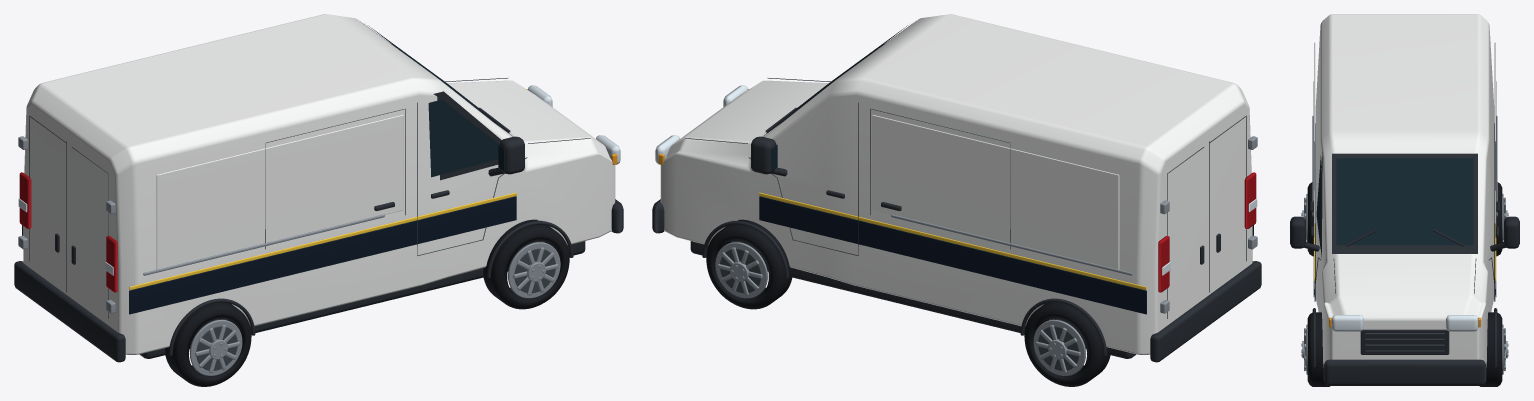
The model's file is furgone-imi.glb.
3 views of the same model, side by side, from view 1: azimuth 30°, elevation 25°; view 2: azimuth 150°, elevation 25°; view 3: azimuth 270°, elevation 25° (orthographic). The views are drawn at different scales.
Visible parts, largest first — view 1: Carrozzeria, Pannello_logo_sinistro, Fascia_blu_sinistro, Finestrino_sinistro, Paraurti_posteriore, Pneumatico_anteriore_sinistra, Pneumatico_posteriore_sinistra, Sottoscocca, Linea_gialla_sinistro, Guarnizione_vetro_sinistro, Binario_scorrevole_sinistro, Cerchio_anteriore_sinistra (+8 smaller); view 2: Carrozzeria, Pannello_logo_destro, Fascia_blu_destro, Paraurti_posteriore, Pneumatico_anteriore_destra, Pneumatico_posteriore_destra, Sottoscocca, Linea_gialla_destro, Binario_scorrevole_destro, Cerchio_anteriore_destra, Cerchio_posteriore_destra, Specchietto_destro (+6 smaller); view 3: Carrozzeria, Parabrezza, Paraurti_anteriore, Guarnizione_parabrezza, Griglia_anteriore, Pneumatico_anteriore_sinistra, Pneumatico_anteriore_destra, Gruppo_faro, Gruppo_faro.001, Specchietto_sinistro, Specchietto_destro, Pannello_logo_sinistro (+7 smaller).
Part boxes in pixels (<box>): Carrozzeria: <box>23,14,615,354</box>; Pannello_logo_sinistro: <box>156,115,403,269</box>; Fascia_blu_sinistro: <box>129,196,516,314</box>; Finestrino_sinistro: <box>428,99,499,177</box>; Paraurti_posteriore: <box>14,261,125,362</box>; Pneumatico_anteriore_sinistra: <box>483,219,569,309</box>; Pneumatico_posteriore_sinistra: <box>165,302,251,386</box>; Sottoscocca: <box>139,219,585,358</box>; Linea_gialla_sinistro: <box>129,192,516,290</box>; Guarnizione_vetro_sinistro: <box>433,91,501,180</box>; Binario_scorrevole_sinistro: <box>143,214,384,275</box>; Cerchio_anteriore_sinistra: <box>508,242,560,298</box>; Carrozzeria: <box>660,14,1252,354</box>; Pannello_logo_destro: <box>872,115,1119,269</box>; Fascia_blu_destro: <box>759,196,1146,314</box>; Paraurti_posteriore: <box>1150,261,1261,362</box>; Pneumatico_anteriore_destra: <box>706,219,792,309</box>; Pneumatico_posteriore_destra: <box>1024,302,1110,386</box>; Sottoscocca: <box>690,219,1136,358</box>; Linea_gialla_destro: <box>759,192,1146,290</box>; Binario_scorrevole_destro: <box>891,214,1132,275</box>; Cerchio_anteriore_destra: <box>715,242,767,298</box>; Cerchio_posteriore_destra: <box>1033,319,1086,375</box>; Specchietto_destro: <box>751,136,776,174</box>; Carrozzeria: <box>1315,14,1494,367</box>; Parabrezza: <box>1336,158,1473,245</box>; Paraurti_anteriore: <box>1323,359,1486,385</box>; Guarnizione_parabrezza: <box>1332,153,1477,253</box>; Griglia_anteriore: <box>1360,329,1449,354</box>; Pneumatico_anteriore_sinistra: <box>1307,312,1330,386</box>; Pneumatico_anteriore_destra: <box>1479,312,1502,386</box>; Gruppo_faro: <box>1331,315,1363,331</box>; Gruppo_faro.001: <box>1446,315,1478,331</box>; Specchietto_sinistro: <box>1290,216,1305,248</box>; Specchietto_destro: <box>1504,216,1519,248</box>; Pannello_logo_sinistro: <box>1314,42,1315,223</box>.
Bounding box in the file's own units: 5.42 × 2.5 × 2.49.
